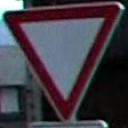preferencia: (2, 0, 126, 123)
